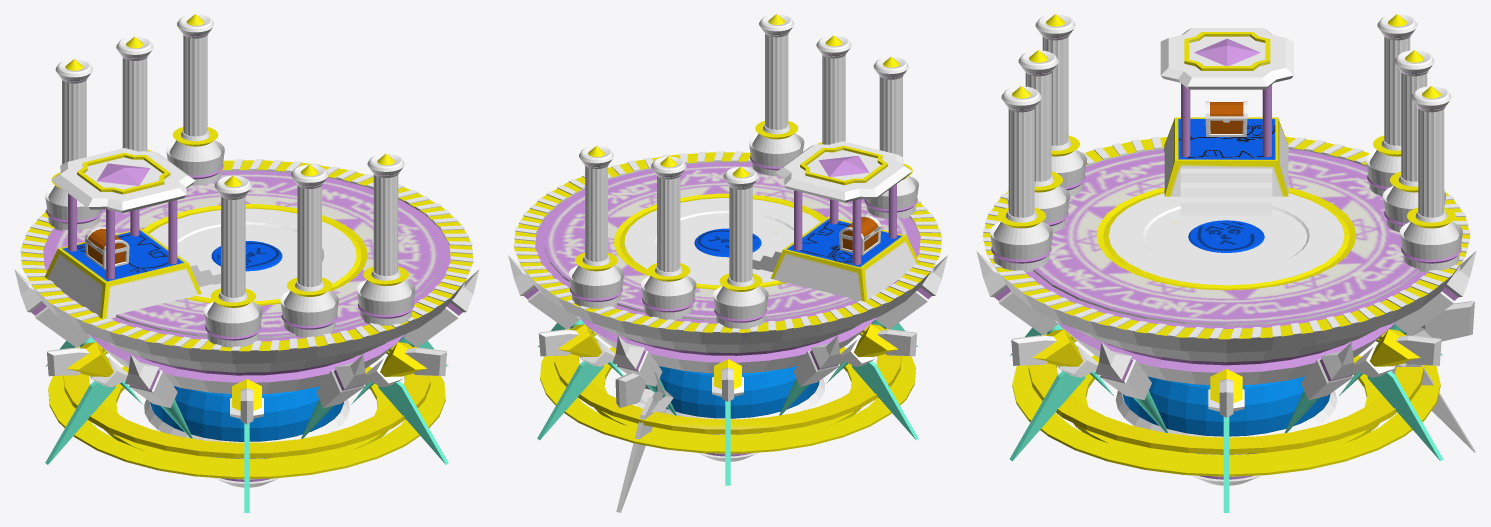
File: sinden.glb
The picture shows the model from 3 angles, left to right: view 1: azimuth 30°, elevation 25°; view 2: azimuth 150°, elevation 25°; view 3: azimuth 270°, elevation 25°; orthographic projection. The views are drawn at different scales.
Visible parts, largest first — view 1: Circle, Circle.002, Circle.007, Cylinder.006, Plane.002, Circle.001, Circle.005, Plane, Cylinder.005, Cylinder.004, Cylinder.003, Cylinder.002 (+8 smaller); view 2: Circle, Circle.002, Circle.007, Cylinder.006, Plane.002, Circle.001, Plane, Cylinder.001, Circle.005, Cylinder, Cylinder.002, Cylinder.005 (+9 smaller); view 3: Circle, Circle.002, Circle.007, Cylinder.006, Circle.001, Plane.002, Circle.005, Plane, Cylinder.005, Cylinder.002, Cylinder.001, Cylinder.004 (+9 smaller).
Boxes of the visible parts, x1,y1,x2,y2 form: Circle: (20, 159, 473, 394); Circle.002: (48, 340, 445, 478); Circle.007: (21, 160, 472, 351); Cylinder.006: (51, 148, 195, 279); Plane.002: (44, 234, 220, 318); Circle.001: (14, 269, 479, 407); Circle.005: (150, 386, 343, 441); Plane: (47, 342, 446, 424); Cylinder.005: (356, 154, 415, 325); Cylinder.004: (280, 164, 338, 337); Cylinder.003: (204, 175, 262, 347); Cylinder.002: (166, 14, 224, 185); Circle: (513, 151, 942, 373); Circle.002: (540, 323, 915, 453); Circle.007: (514, 152, 941, 332); Cylinder.006: (776, 141, 912, 264); Plane.002: (752, 222, 919, 301); Circle.001: (508, 255, 947, 386); Plane: (538, 324, 917, 401); Cylinder.001: (641, 156, 696, 319); Circle.005: (659, 366, 819, 418); Cylinder: (713, 167, 768, 329); Cylinder.002: (568, 146, 624, 308); Cylinder.005: (749, 14, 804, 175); Circle: (982, 135, 1470, 384); Circle.002: (1012, 330, 1440, 476); Circle.007: (982, 136, 1470, 339); Cylinder.006: (1160, 28, 1293, 157); Circle.001: (976, 251, 1476, 400); Plane.002: (1164, 118, 1288, 215); Circle.005: (1122, 376, 1330, 436); Plane: (1011, 329, 1441, 417); Cylinder.005: (990, 86, 1052, 272); Cylinder.002: (1400, 86, 1462, 272); Cylinder.001: (1383, 50, 1445, 232); Cylinder.004: (1007, 50, 1069, 232).
Size of the model in its own units: 58.52 by 54.75 by 58.8.
Materials: 4 (4 with a texture image).
